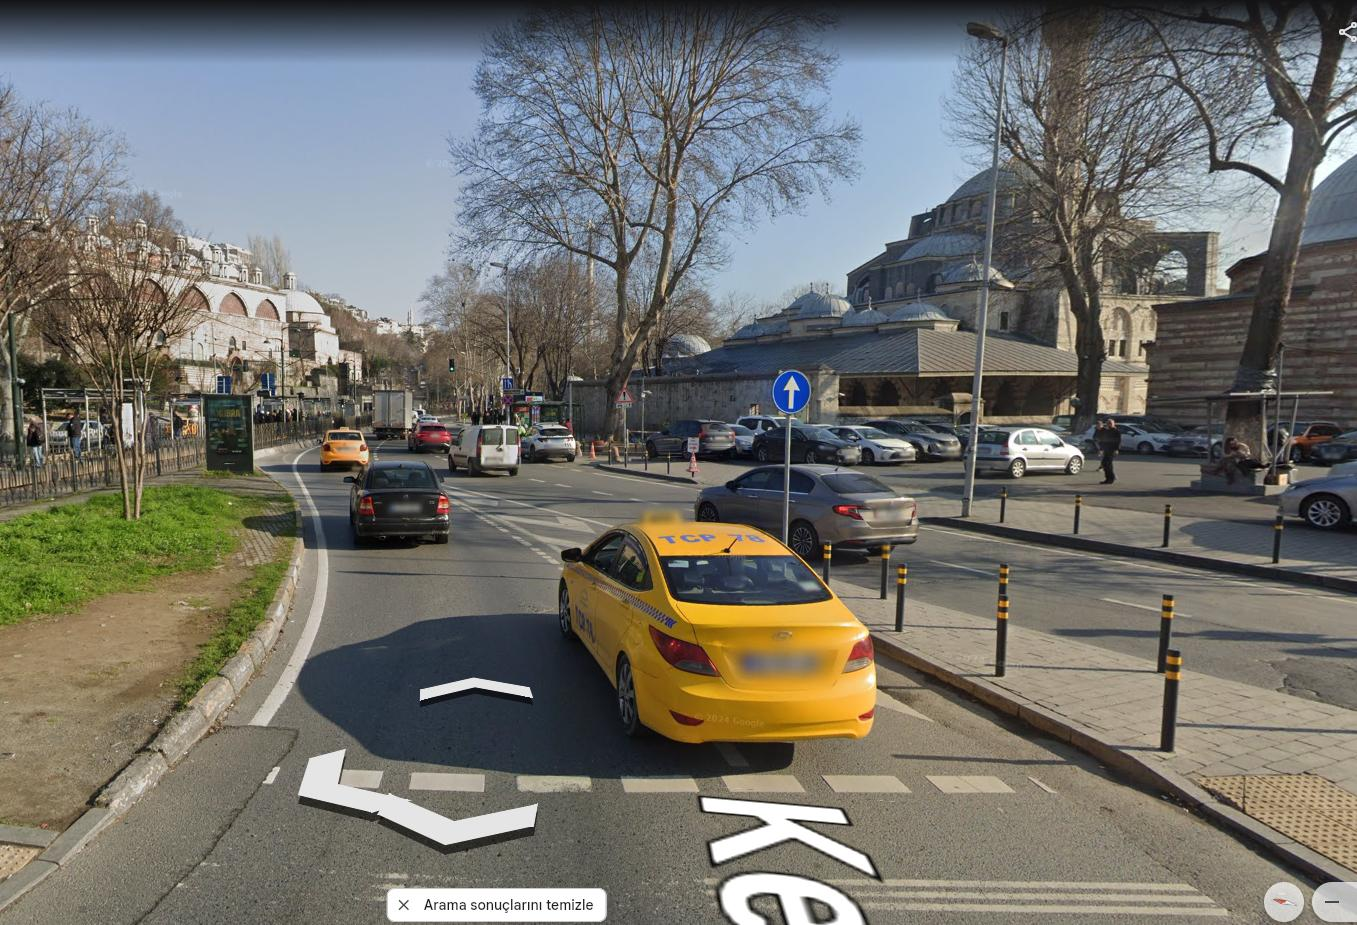forward: (775, 371, 810, 413)
